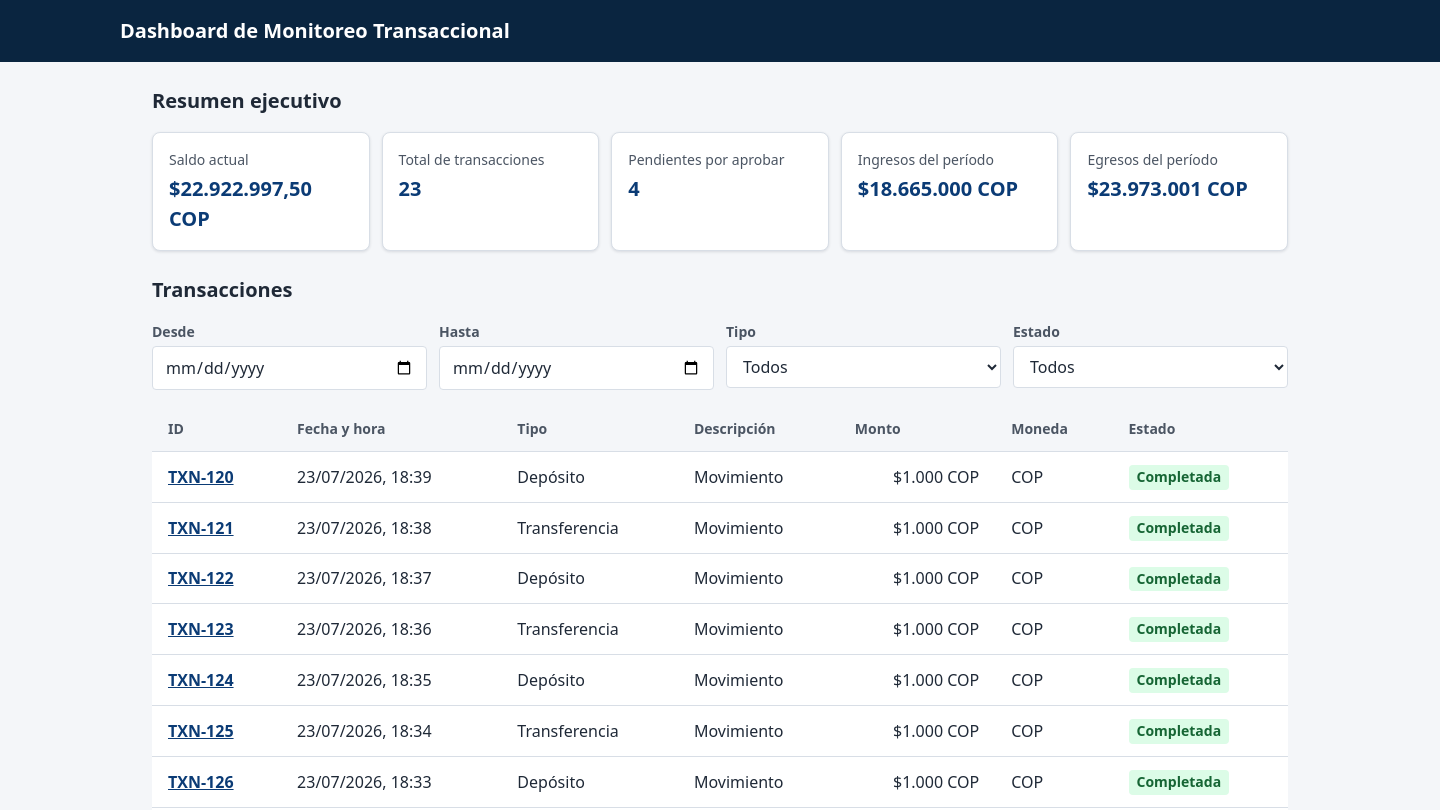
Test: DashboardPage (integración) › con resultados de varias páginas › cambiar un filtro reinicia la página aunque la página actual siga existiendo
Select "Transferencia" in the dropdown labelled "Tipo" at (864, 367), box [726,346,1001,388]
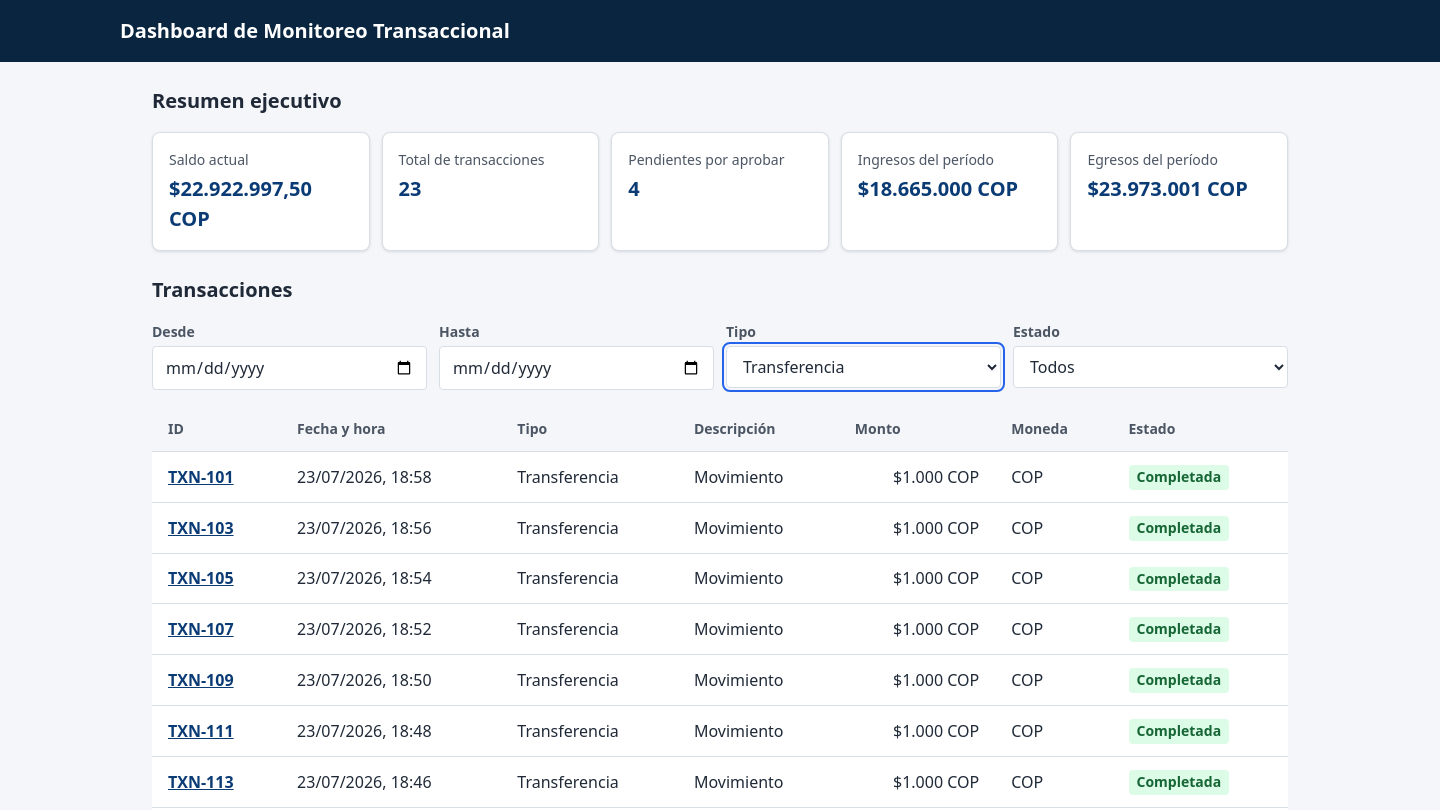
Check: the link "TXN-101" is shown, box [168,466,234,488]
